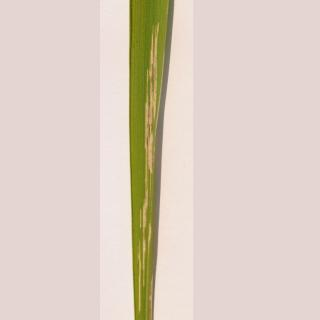Hawar-Daun: (130, 27, 168, 288)
